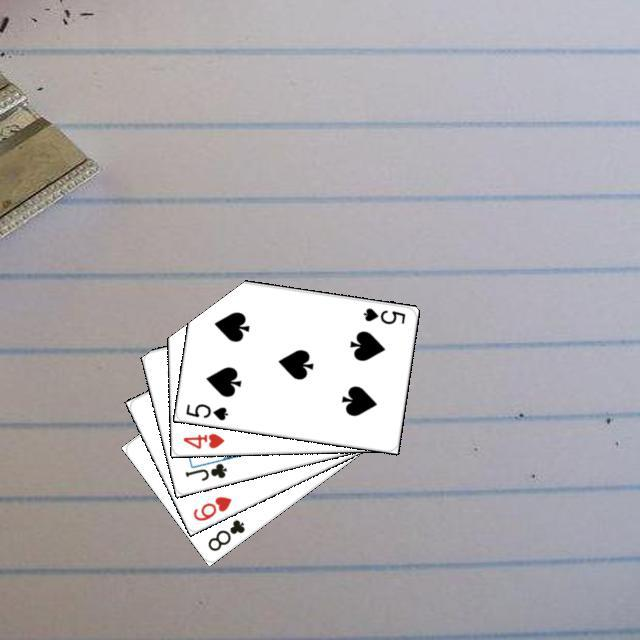4h: (178, 428, 226, 450)
5s: (181, 399, 230, 422), (358, 303, 407, 326)
6h: (188, 491, 233, 523)
8c: (203, 514, 247, 553)
Jc: (180, 458, 229, 483)
